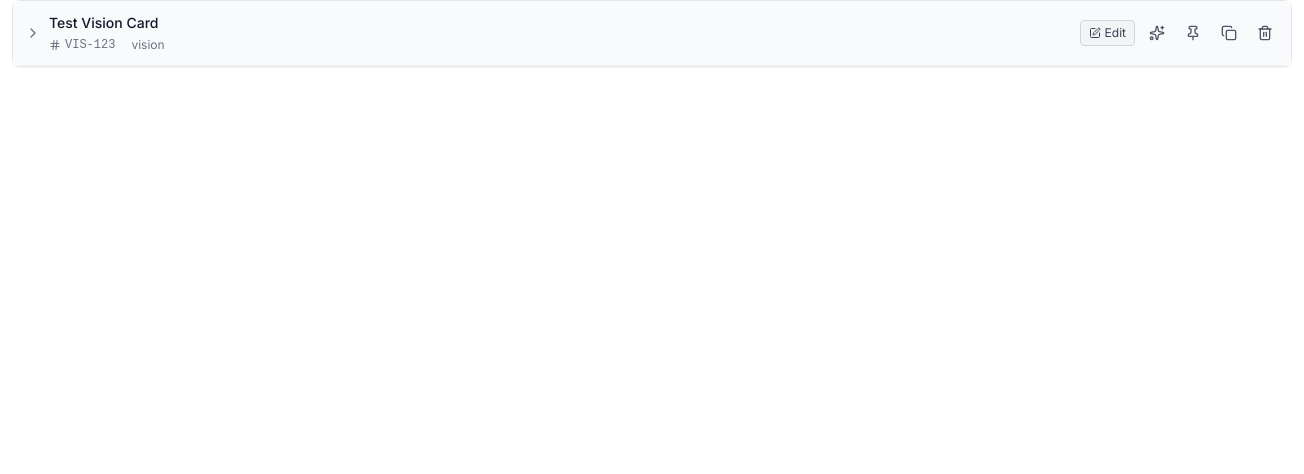
Test: EnhancedMasterCard › handles section collapse/expand
Expected: the text "Blueprint Fields" is not shown
# Expand card
Click the heading "Test Vision Card": {"x": 104, "y": 22} [49,14,158,31]
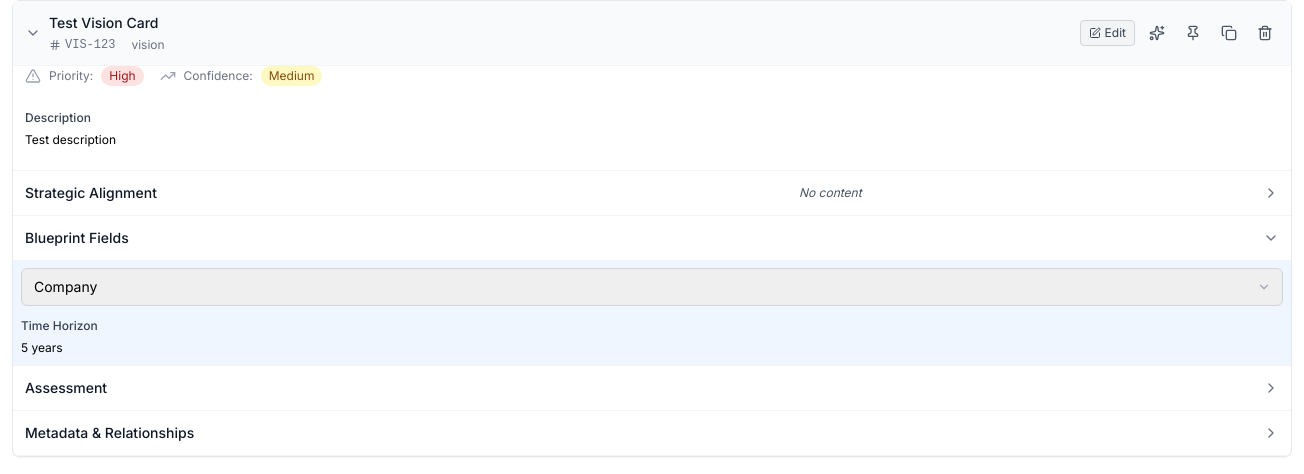
Expected: the text "Blueprint Fields" is shown, [25,228,129,248]
